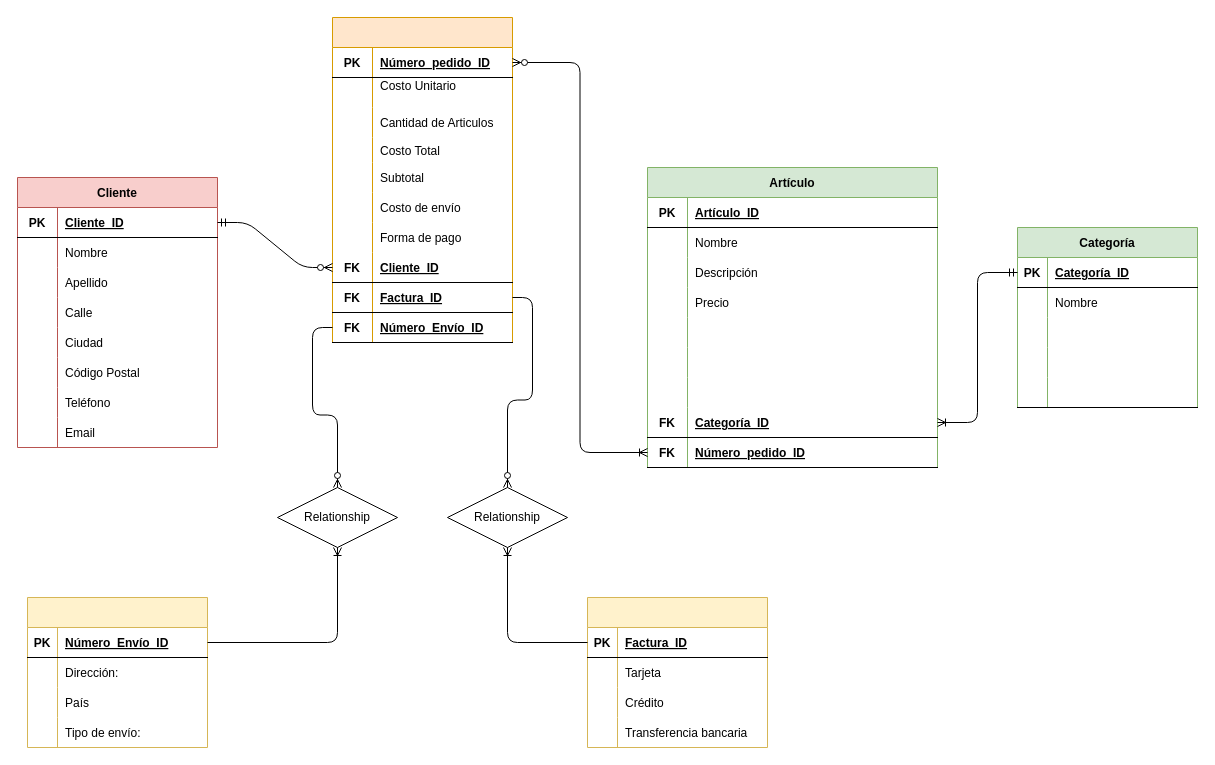
Some shapes in this 1215 by 765 pixel diagram are drawn without their labels. The box of each missing label's shape, as (x1, y1, x2, y2) in pixels:
Carrito: (332, 16, 512, 342)
Envio: (26, 596, 208, 748)
Método de pago: (586, 596, 768, 748)
